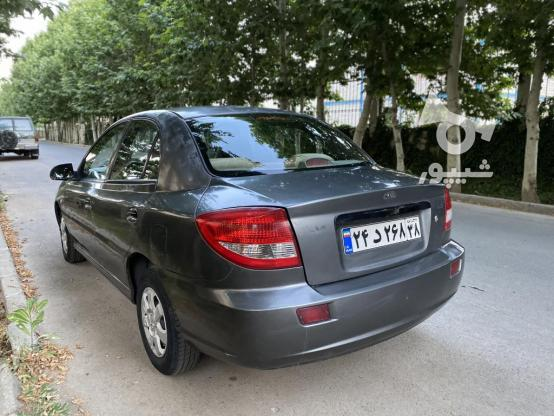car: (341, 214, 421, 253)
